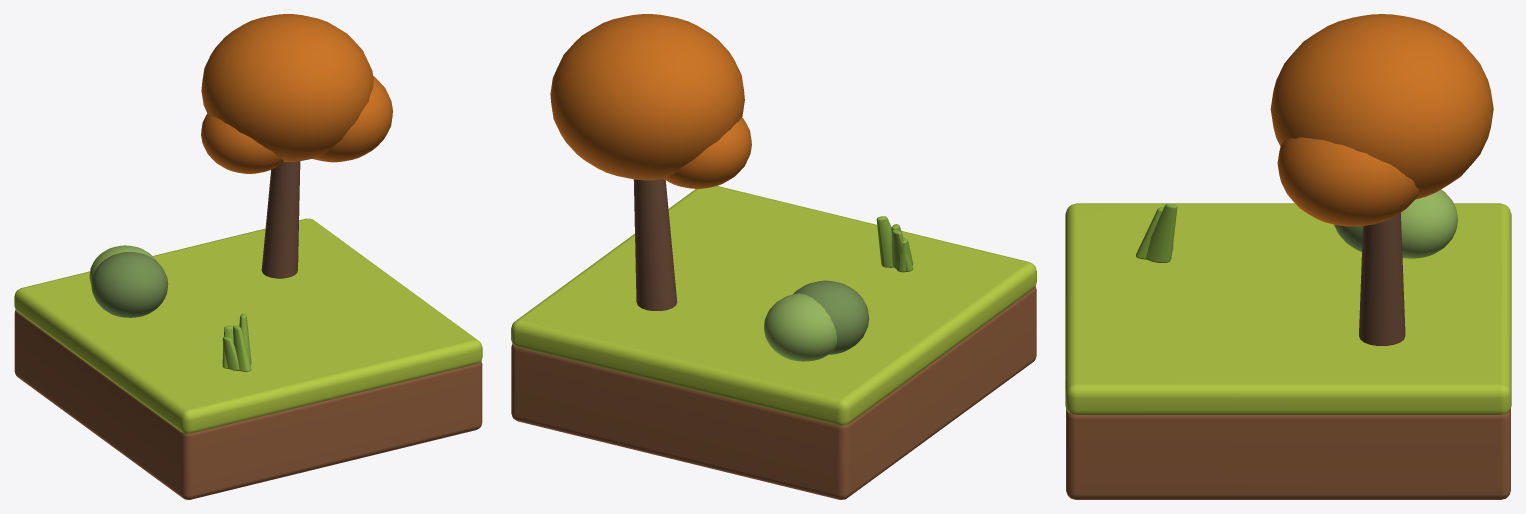
Rendered from tile_grove_autumn.glb.
The picture shows the model from 3 angles, left to right: view 1: azimuth 30°, elevation 25°; view 2: azimuth 150°, elevation 25°; view 3: azimuth 270°, elevation 25°; orthographic projection. The views are drawn at different scales.
Visible parts, largest first — view 1: tile_grove_autumn_cap, tile_grove_autumn_body, ga_crown, tile_grove_autumn_b_l1, ga_trunk, ga_crown3, ga_crown2, tile_grove_autumn_t_b1, tile_grove_autumn_b_l3; view 2: tile_grove_autumn_cap, tile_grove_autumn_body, ga_crown, ga_trunk, tile_grove_autumn_b_l3, ga_crown3, tile_grove_autumn_b_l1, tile_grove_autumn_t_b0; view 3: tile_grove_autumn_cap, tile_grove_autumn_body, ga_crown, ga_crown2, ga_trunk, tile_grove_autumn_b_l3, tile_grove_autumn_t_b0, tile_grove_autumn_b_l1.
Part boxes in pixels (x1=…): tile_grove_autumn_cap: x1=14, y1=218, x2=482, y2=433; tile_grove_autumn_body: x1=14, y1=310, x2=482, y2=499; ga_crown: x1=201, y1=14, x2=373, y2=161; tile_grove_autumn_b_l1: x1=91, y1=252, x2=168, y2=317; ga_trunk: x1=261, y1=161, x2=300, y2=278; ga_crown3: x1=201, y1=113, x2=283, y2=173; ga_crown2: x1=312, y1=76, x2=392, y2=162; tile_grove_autumn_t_b1: x1=233, y1=325, x2=251, y2=371; tile_grove_autumn_b_l3: x1=89, y1=245, x2=156, y2=284; tile_grove_autumn_cap: x1=511, y1=186, x2=1036, y2=425; tile_grove_autumn_body: x1=511, y1=286, x2=1036, y2=499; ga_crown: x1=550, y1=14, x2=744, y2=180; ga_trunk: x1=633, y1=179, x2=677, y2=310; tile_grove_autumn_b_l3: x1=764, y1=293, x2=837, y2=361; ga_crown3: x1=664, y1=117, x2=751, y2=188; tile_grove_autumn_b_l1: x1=793, y1=280, x2=869, y2=354; tile_grove_autumn_t_b0: x1=876, y1=216, x2=893, y2=267; tile_grove_autumn_cap: x1=1065, y1=203, x2=1511, y2=414; tile_grove_autumn_body: x1=1066, y1=408, x2=1510, y2=499; ga_crown: x1=1270, y1=14, x2=1493, y2=199; ga_crown2: x1=1277, y1=137, x2=1419, y2=226; ga_trunk: x1=1359, y1=212, x2=1405, y2=345; tile_grove_autumn_b_l3: x1=1401, y1=189, x2=1457, y2=258; tile_grove_autumn_t_b0: x1=1146, y1=203, x2=1177, y2=262; tile_grove_autumn_b_l1: x1=1334, y1=224, x2=1362, y2=251.
Bounding box in the file's own units: 2.08 × 2.13 × 2.
